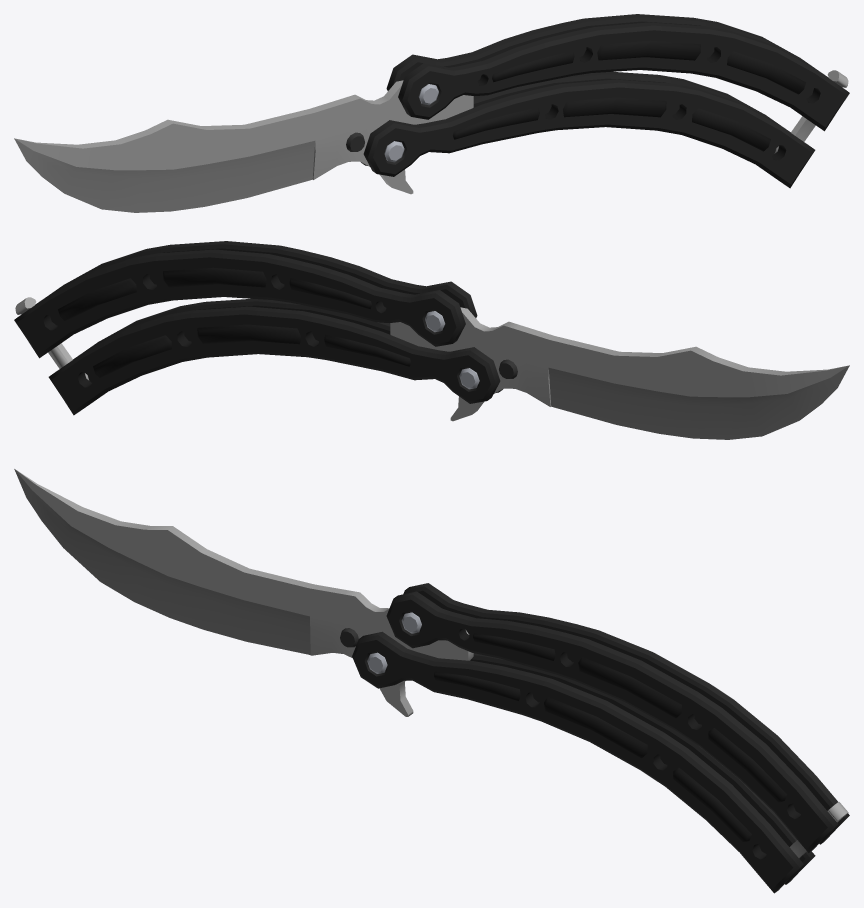
3 views of the same model, one above another, from view 1: azimuth 30°, elevation 25°; view 2: azimuth 150°, elevation 25°; view 3: azimuth 330°, elevation 25° (orthographic).
Parts seen in each view (by area): view 1: blade, handle_a, handle_b; view 2: blade, handle_a, handle_b; view 3: handle_a, blade, handle_b.
Part boxes in pixels (bbox=[...]): blade: bbox=[14, 80, 473, 212]; handle_a: bbox=[386, 14, 849, 131]; handle_b: bbox=[361, 70, 848, 188]; blade: bbox=[390, 307, 849, 439]; handle_a: bbox=[14, 241, 477, 358]; handle_b: bbox=[15, 297, 502, 415]; handle_a: bbox=[386, 583, 849, 852]; blade: bbox=[14, 469, 473, 716]; handle_b: bbox=[352, 631, 848, 893].
Bounding box in the file's own units: 51 × 13.57 × 2.35.
Materials: 1 (1 with a texture image).
